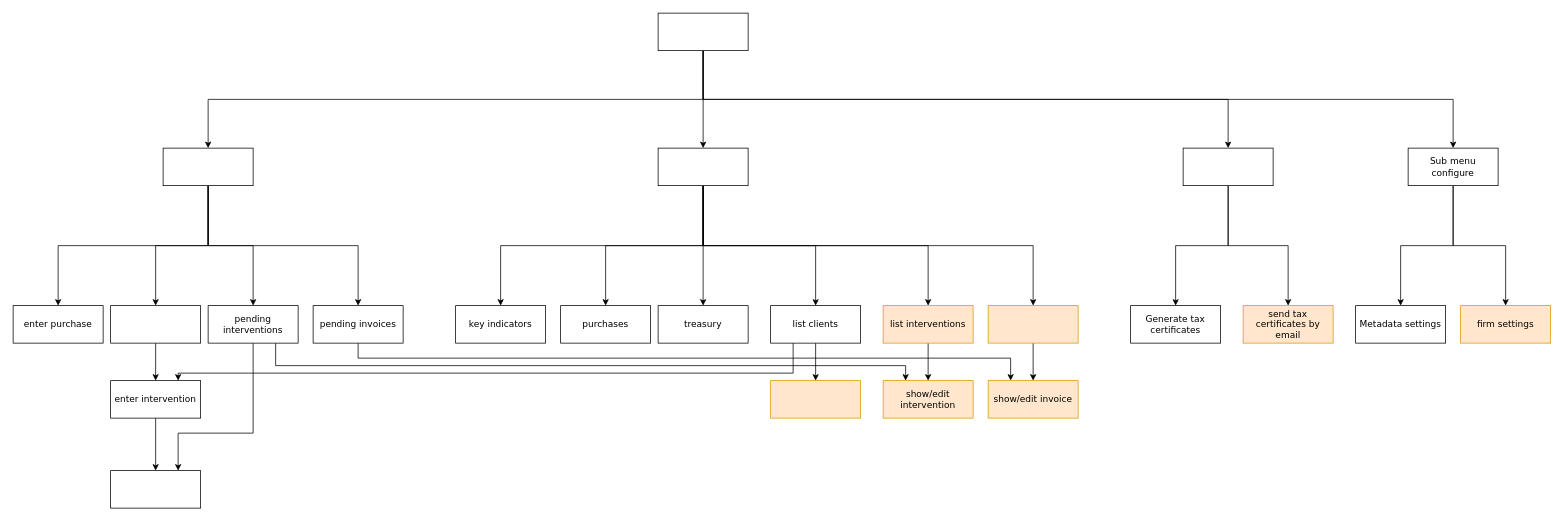
Image size: 1564x521. Some labels were removed from this diagram. The centre of each missing label's shape, as x and y in pixels:
enter client: point 155,324
enter invoice: point 155,489
Home: point 702,31
list invoices: point 1032,324
show/edit client: point 815,399
Sub menu consult: point 702,166
Sub menu Enter: point 207,166
Sub menu execute: point 1227,166
